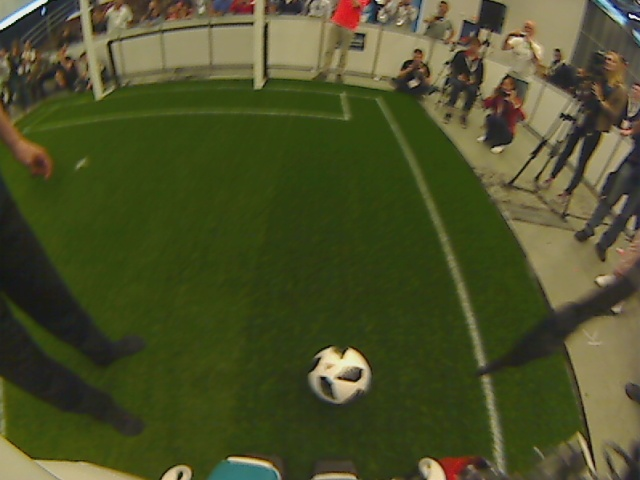ball: (306, 342, 374, 409)
